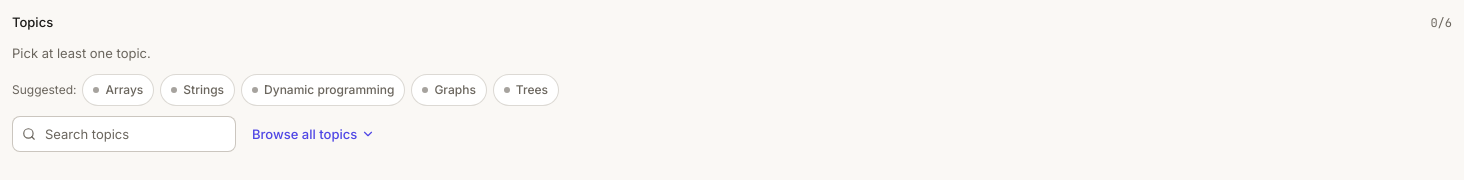
TopicPicker › adds a suggested topic and shows it as removable
The width and height of the screenshot is (1464, 180).
expect the text "0/6" is shown: met, box [1430, 15, 1452, 31]
Click the button "Arrays" at (118, 90), box [82, 74, 154, 106]
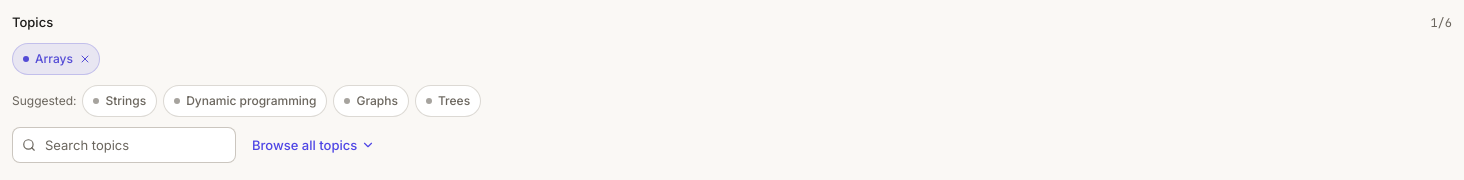
expect the text "1/6" is shown: met, box [1430, 15, 1452, 31]
Click the button with aria-label "Remove Arrays" at (56, 59), box [12, 43, 100, 75]
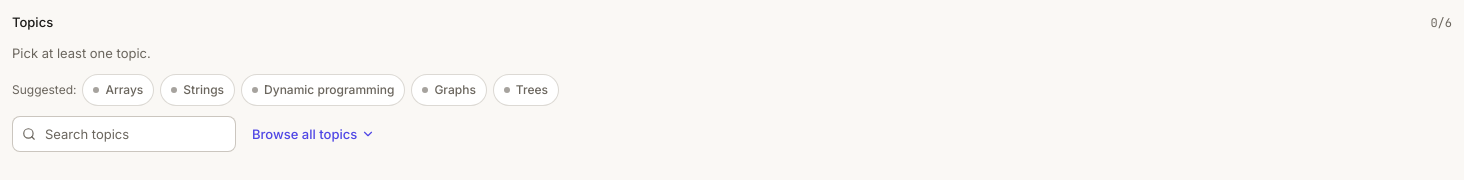
expect the text "0/6" is shown: met, box [1430, 15, 1452, 31]
